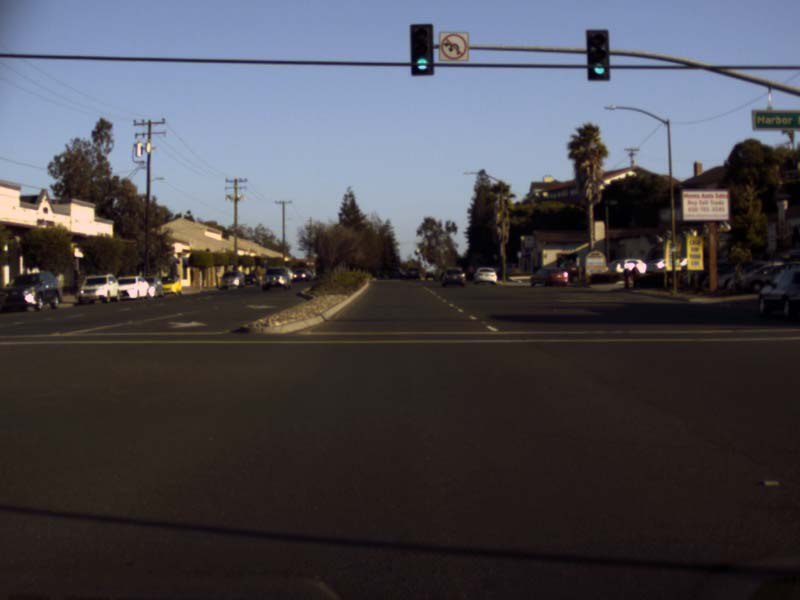Green: (410, 23, 433, 74), (586, 29, 608, 79)
